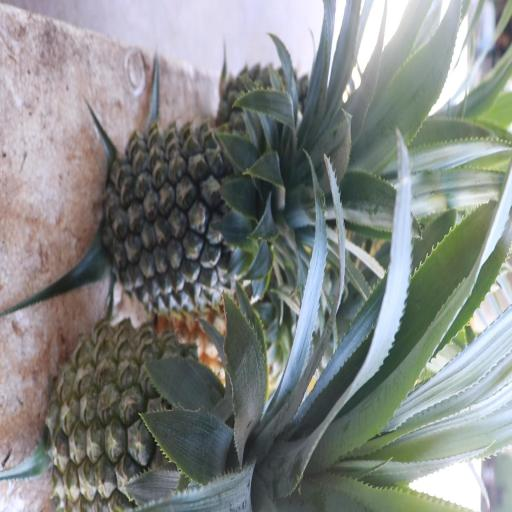------------------------------: (51, 317, 262, 508)
